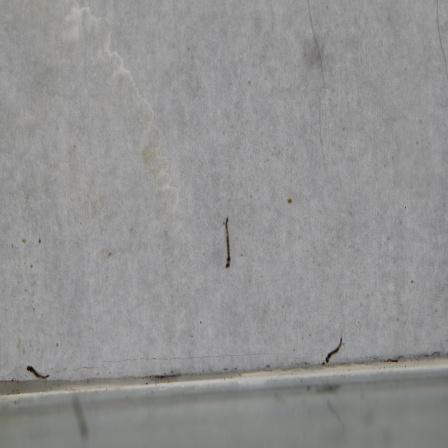Jentik-Nyamuk: (216, 215, 237, 271), (319, 336, 348, 366), (24, 361, 55, 383)
